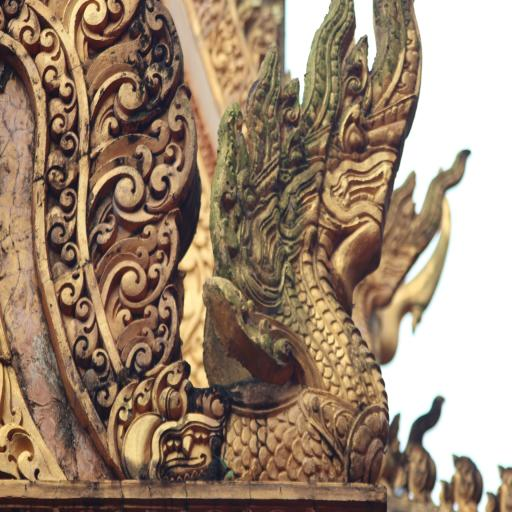lua: (88, 98, 202, 226), (89, 7, 184, 137), (98, 213, 184, 317), (118, 306, 183, 371), (68, 298, 98, 368), (86, 345, 114, 418), (49, 243, 83, 303), (46, 132, 78, 192), (40, 29, 68, 96), (47, 182, 74, 247), (54, 73, 77, 139), (3, 2, 38, 44)
ran: (201, 0, 428, 483), (118, 362, 220, 478)
